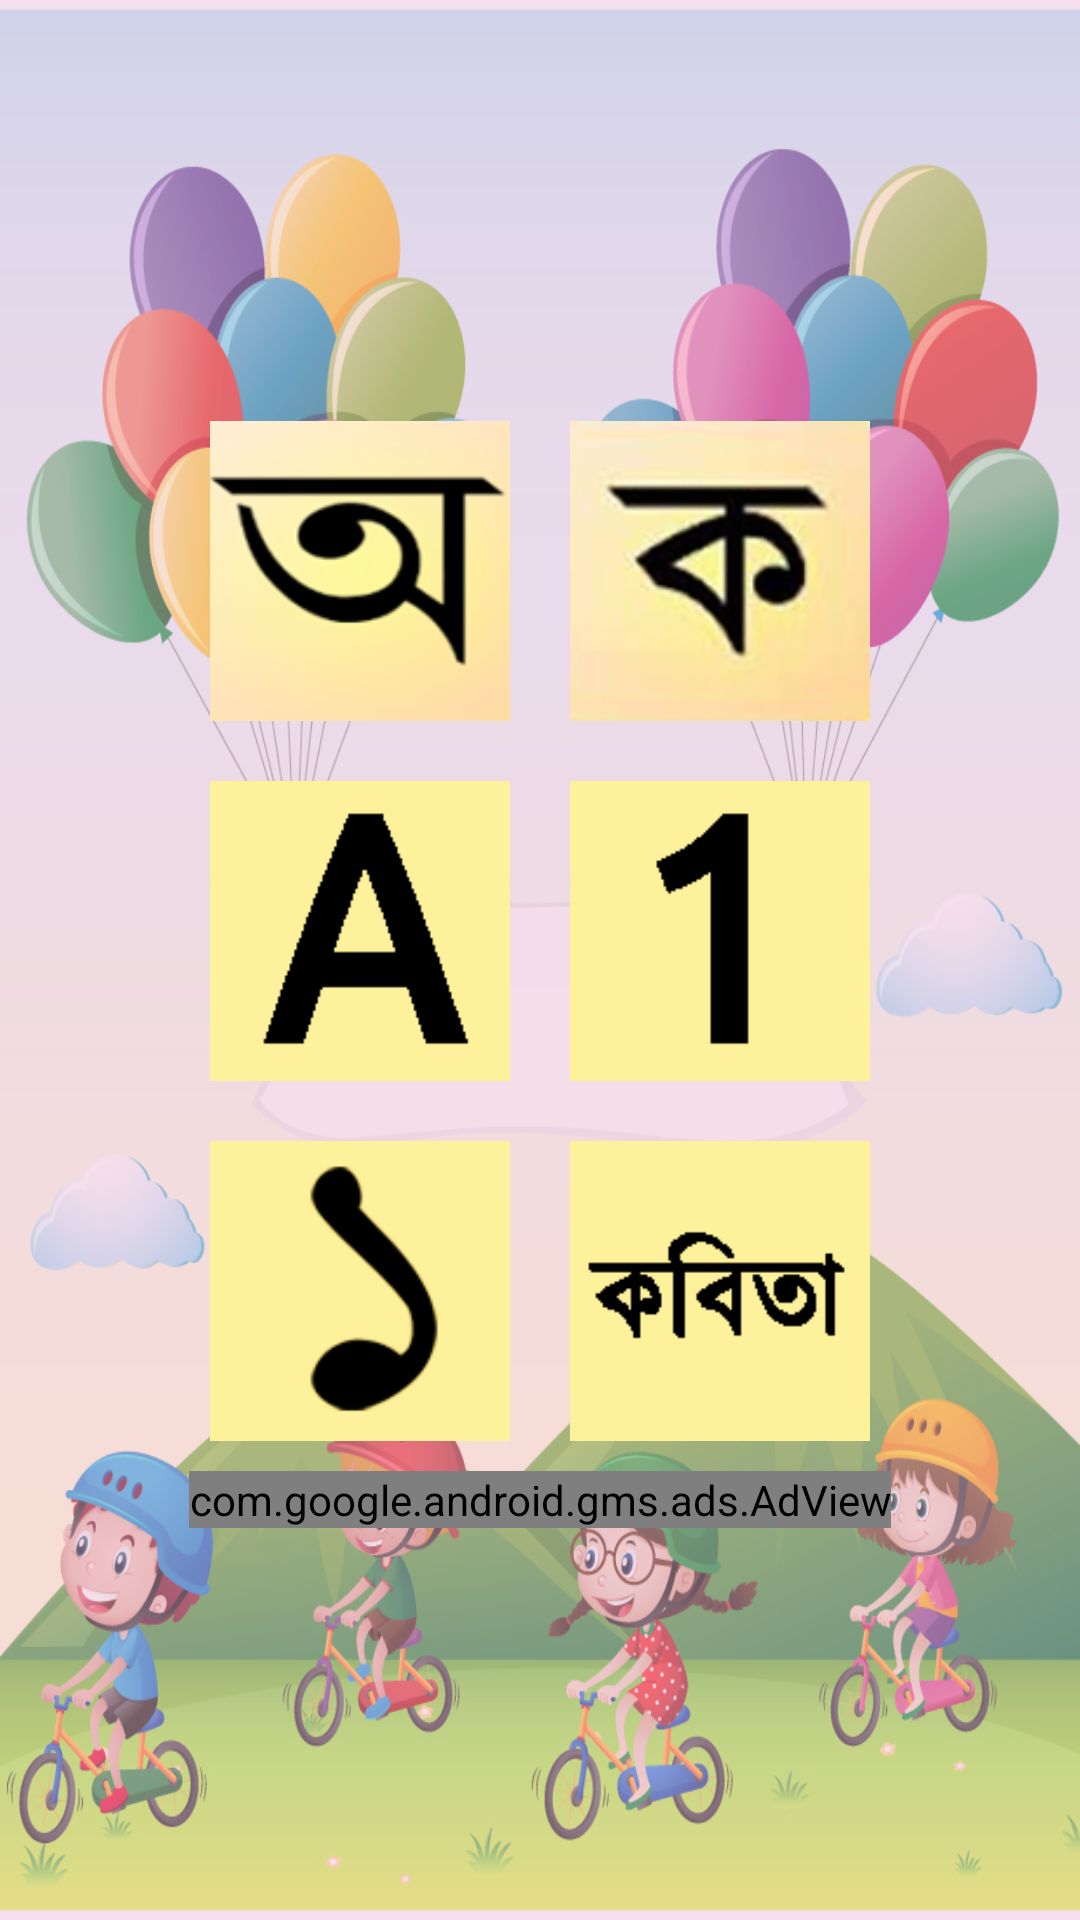

Where to tap for icons on this 1080*1920 app screen, as point (x, y):
alphabet: point (360, 931)
bengali number: point (360, 1291)
number: point (720, 931)
vowel: point (360, 571)
